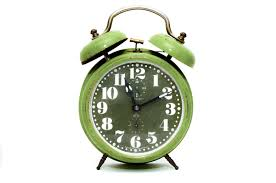alarm_clock: (77, 2, 196, 170)
